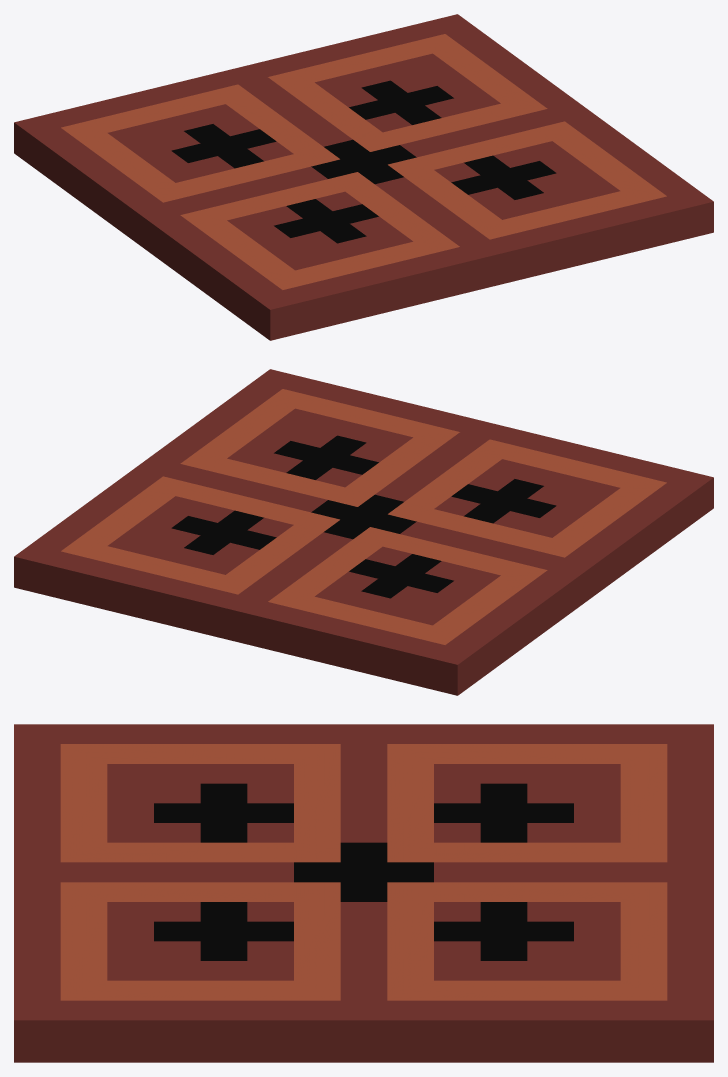
The model's file is dungeon_b_a_ground_c_b.obj.
3 views of the same model, one above another, from view 1: azimuth 30°, elevation 25°; view 2: azimuth 150°, elevation 25°; view 3: azimuth 270°, elevation 25° (orthographic). The views are drawn at different scales.
Bounding box in the file's own units: 1.5 × 0.1 × 1.5.
Materials: 1 (1 with a texture image).
